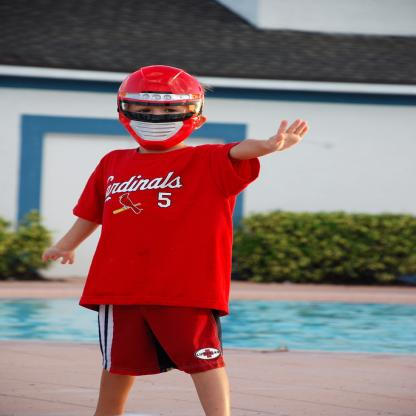Helmet: (114, 65, 207, 145)
